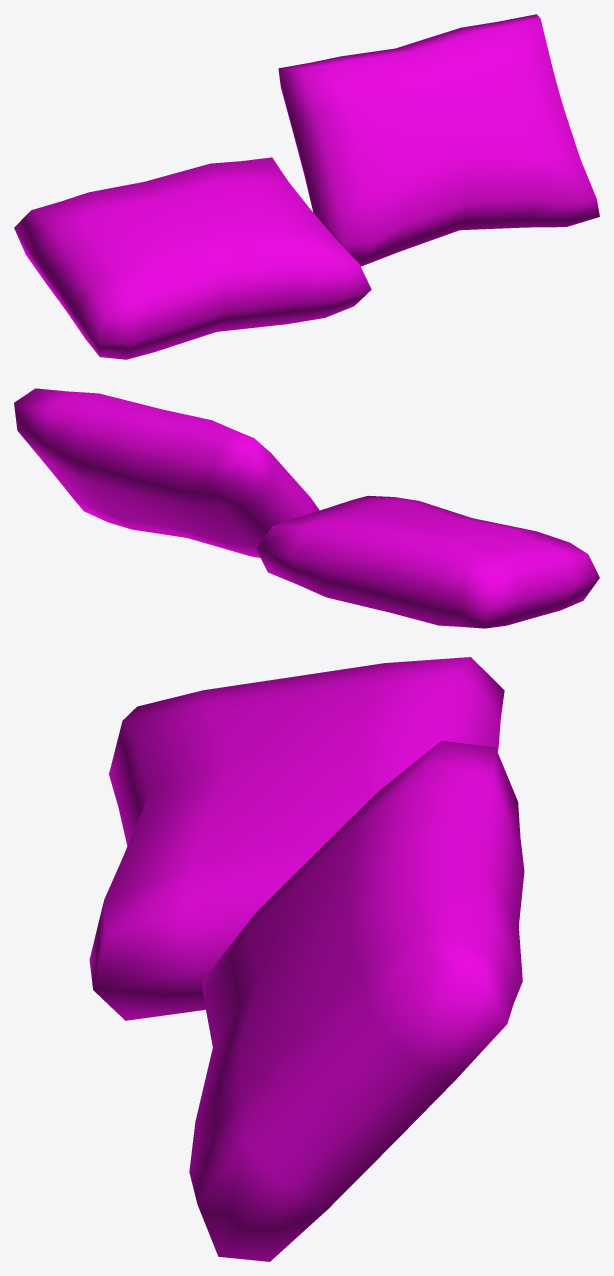
The model's file is Pillows.fbx.
3 renders of one model, top to bottom at view 1: azimuth 30°, elevation 25°; view 2: azimuth 150°, elevation 25°; view 3: azimuth 270°, elevation 25°, orthographic. The views are drawn at different scales.
Parts seen in each view (by area): view 1: Bed.001; view 2: Bed.001; view 3: Bed.001.
Part boxes in pixels (x1,y1,x2,y2): Bed.001: [14, 14, 599, 359]; Bed.001: [14, 388, 599, 628]; Bed.001: [89, 657, 524, 1261].
Size of the model in its own units: 159 by 50.02 by 60.18.
